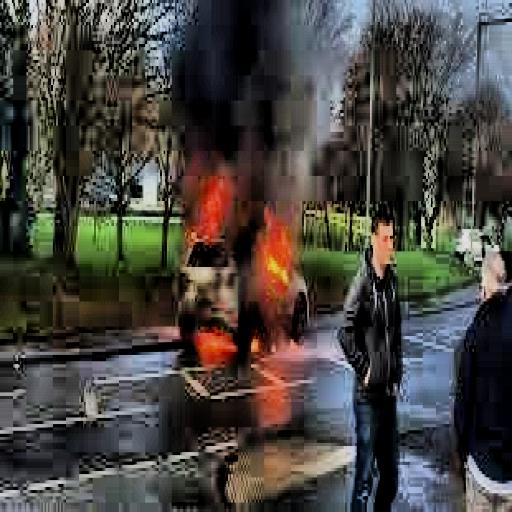fire: (173, 186, 304, 364)
